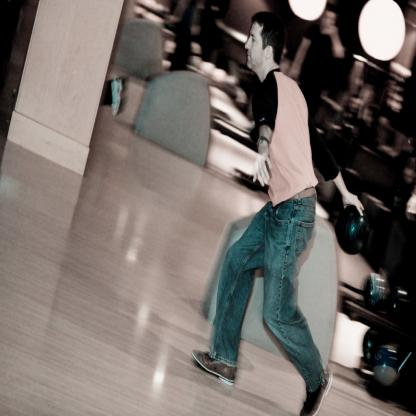Ball: (336, 204, 368, 253)
